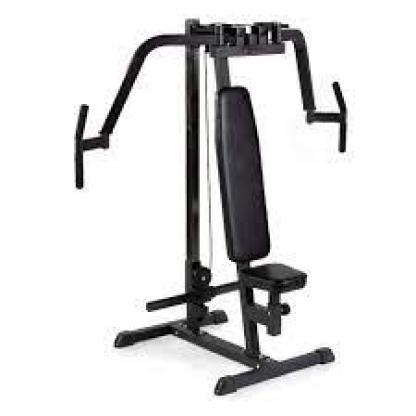chest fly machine: (67, 14, 367, 394)
